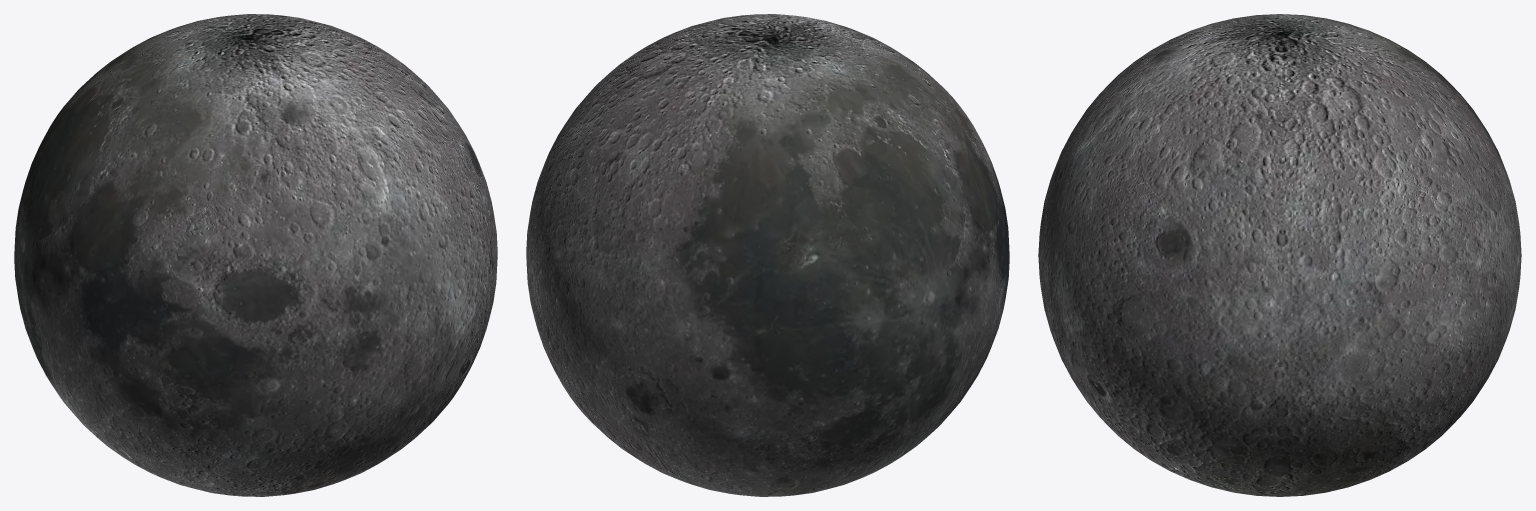
Rendered from Moon_1_3474.glb.
3 views of the same model, side by side, from view 1: azimuth 30°, elevation 25°; view 2: azimuth 150°, elevation 25°; view 3: azimuth 270°, elevation 25° (orthographic).
Parts seen in each view (by area): view 1: Cube.008; view 2: Cube.008; view 3: Cube.008.
Part boxes in pixels (x1,y1,x2,y2): Cube.008: [14, 14, 497, 496]; Cube.008: [526, 14, 1009, 496]; Cube.008: [1038, 14, 1521, 496].
Size of the model in its own units: 1000 by 999 by 1000.
Materials: 1 (1 with a texture image).
